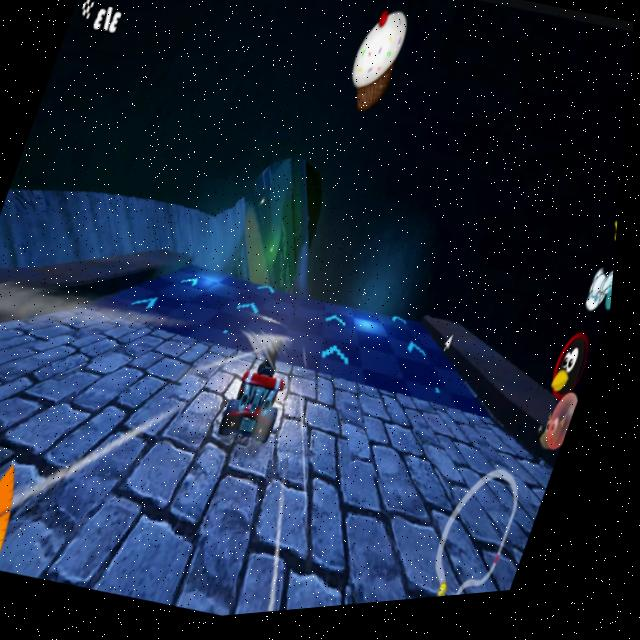player_kart: (218, 349, 313, 466)
power_up: (316, 345, 367, 386), (224, 294, 273, 330), (399, 340, 440, 382), (127, 285, 169, 324), (322, 308, 366, 341), (252, 281, 287, 308), (179, 273, 210, 299)
